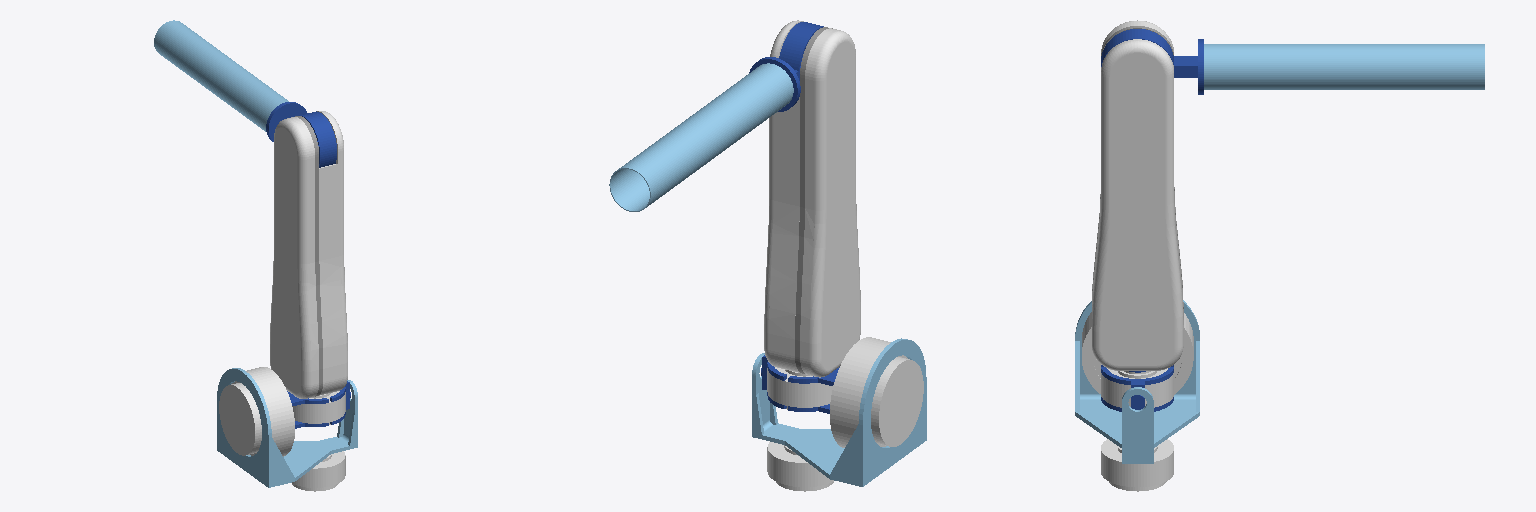
The robot description file, URDF, robot "sim_arm_141-1x3-none":
<?xml version='1.0' encoding='utf-8'?>
<robot name="sim_arm_141-1x3-none">
  <link name="link_rs01_sim_1">
    <visual>
      <origin xyz="0 0 0" rpy="0 0 0" />
      <geometry>
        <mesh filename="./meshes/rs01_sim_1.stl" />
      </geometry>
      <material name="link_rs01_sim_1_material">
        <color rgba="0.91764706 0.91764706 0.91764706 1" />
      </material>
    </visual>
    <collision>
      <origin xyz="0 0 0" rpy="0 0 0" />
      <geometry>
        <mesh filename="./meshes/rs01_sim_1.stl" />
      </geometry>
    </collision>
    </link>
  <link name="link_main_shoulder_bracket_1">
    <visual>
      <origin xyz="0 0 0" rpy="0 0 0" />
      <geometry>
        <mesh filename="./meshes/main_shoulder_bracket_1597ccc2460cce77d.stl" />
      </geometry>
      <material name="link_main_shoulder_bracket_1_material">
        <color rgba="0.61568627 0.81176471 0.92941176 1" />
      </material>
    </visual>
    <collision>
      <origin xyz="0 0 0" rpy="0 0 0" />
      <geometry>
        <mesh filename="./meshes/main_shoulder_bracket_1597ccc2460cce77d.stl" />
      </geometry>
    </collision>
    </link>
  <joint name="joint_j1" type="revolute">
    <origin xyz="0 0 0.020512915" rpy="0 0 0" />
    <parent link="link_rs01_sim_1" />
    <child link="link_main_shoulder_bracket_1" />
    <limit effort="80" velocity="5" lower="-3.1415927" upper="3.1415927" />
    <axis xyz="0 0 -1" />
  </joint>
  <link name="link_dummy_1">
    <visual>
      <origin xyz="0 0 0" rpy="0 0 0" />
      <geometry>
        <mesh filename="./meshes/dummy_1.stl" />
      </geometry>
      <material name="link_dummy_1_material">
        <color rgba="0.98039216 0.71372549 0.0039215686 1" />
      </material>
    </visual>
    <collision>
      <origin xyz="0 0 0" rpy="0 0 0" />
      <geometry>
        <mesh filename="./meshes/dummy_1.stl" />
      </geometry>
    </collision>
    </link>
  <joint name="joint_revolute_1" type="revolute">
    <origin xyz="0 0 -0.019987085" rpy="0 0 0" />
    <parent link="link_rs01_sim_1" />
    <child link="link_dummy_1" />
    <limit effort="80" velocity="5" lower="0" upper="0.017453293" />
    <axis xyz="0 0 1" />
  </joint>
  <link name="link_rs04_sim_1">
    <visual>
      <origin xyz="0 0 0" rpy="0 0 0" />
      <geometry>
        <mesh filename="./meshes/rs04_sim_1.stl" />
      </geometry>
      <material name="link_rs04_sim_1_material">
        <color rgba="0.91764706 0.91764706 0.91764706 1" />
      </material>
    </visual>
    <collision>
      <origin xyz="0 0 0" rpy="0 0 0" />
      <geometry>
        <mesh filename="./meshes/rs04_sim_1.stl" />
      </geometry>
    </collision>
    </link>
  <joint name="joint_bolt_12" type="fixed">
    <origin xyz="-0.10375 0 0.074" rpy="-3.1415927 1.5707963 0" />
    <parent link="link_main_shoulder_bracket_1" />
    <child link="link_rs04_sim_1" />
  </joint>
  <link name="link_dummy_4">
    <visual>
      <origin xyz="0 0 0" rpy="0 0 0" />
      <geometry>
        <mesh filename="./meshes/dummy_4.stl" />
      </geometry>
      <material name="link_dummy_4_material">
        <color rgba="0.98039216 0.71372549 0.0039215686 1" />
      </material>
    </visual>
    <collision>
      <origin xyz="0 0 0" rpy="0 0 0" />
      <geometry>
        <mesh filename="./meshes/dummy_4.stl" />
      </geometry>
    </collision>
    </link>
  <joint name="joint_revolute_2" type="revolute">
    <origin xyz="0 0 -0.025" rpy="0 0 0" />
    <parent link="link_dummy_1" />
    <child link="link_dummy_4" />
    <limit effort="80" velocity="5" lower="0" upper="0.017453293" />
    <axis xyz="0 0 1" />
  </joint>
  <link name="link_m3_to_bearing_bracket_1">
    <visual>
      <origin xyz="0 0 0" rpy="0 0 0" />
      <geometry>
        <mesh filename="./meshes/m3_to_bearing_bracket_1597ccc2460cce77d.stl" />
      </geometry>
      <material name="link_m3_to_bearing_bracket_1_material">
        <color rgba="0.23137255 0.38039216 0.70588235 1" />
      </material>
    </visual>
    <collision>
      <origin xyz="0 0 0" rpy="0 0 0" />
      <geometry>
        <mesh filename="./meshes/m3_to_bearing_bracket_1597ccc2460cce77d.stl" />
      </geometry>
    </collision>
    </link>
  <joint name="joint_j2" type="revolute">
    <origin xyz="0 0 -0.0395" rpy="0 0 -1.5707963" />
    <parent link="link_rs04_sim_1" />
    <child link="link_m3_to_bearing_bracket_1" />
    <limit effort="80" velocity="5" lower="-3.1415927" upper="3.1415927" />
    <axis xyz="0 0 1" />
  </joint>
  <link name="link_dummy_3">
    <visual>
      <origin xyz="0 0 0" rpy="0 0 0" />
      <geometry>
        <mesh filename="./meshes/dummy_3.stl" />
      </geometry>
      <material name="link_dummy_3_material">
        <color rgba="0.98039216 0.71372549 0.0039215686 1" />
      </material>
    </visual>
    <collision>
      <origin xyz="0 0 0" rpy="0 0 0" />
      <geometry>
        <mesh filename="./meshes/dummy_3.stl" />
      </geometry>
    </collision>
    </link>
  <joint name="joint_revolute_3" type="revolute">
    <origin xyz="0 0 -0.025" rpy="0 0 0" />
    <parent link="link_dummy_4" />
    <child link="link_dummy_3" />
    <limit effort="80" velocity="5" lower="0" upper="0.017453293" />
    <axis xyz="0 0 1" />
  </joint>
  <link name="link_rs01_sim_2">
    <visual>
      <origin xyz="0 0 0" rpy="0 0 0" />
      <geometry>
        <mesh filename="./meshes/rs01_sim_2.stl" />
      </geometry>
      <material name="link_rs01_sim_2_material">
        <color rgba="0.91764706 0.91764706 0.91764706 1" />
      </material>
    </visual>
    <collision>
      <origin xyz="0 0 0" rpy="0 0 0" />
      <geometry>
        <mesh filename="./meshes/rs01_sim_2.stl" />
      </geometry>
    </collision>
    </link>
  <joint name="joint_bolt_23_m" type="fixed">
    <origin xyz="0 -0.014 -0.06425" rpy="-1.5707963 1.5707963 0" />
    <parent link="link_m3_to_bearing_bracket_1" />
    <child link="link_rs01_sim_2" />
  </joint>
  <link name="link_dummy_2">
    <visual>
      <origin xyz="0 0 0" rpy="0 0 0" />
      <geometry>
        <mesh filename="./meshes/dummy_2.stl" />
      </geometry>
      <material name="link_dummy_2_material">
        <color rgba="0.98039216 0.71372549 0.0039215686 1" />
      </material>
    </visual>
    <collision>
      <origin xyz="0 0 0" rpy="0 0 0" />
      <geometry>
        <mesh filename="./meshes/dummy_2.stl" />
      </geometry>
    </collision>
    </link>
  <joint name="joint_revolute_4" type="revolute">
    <origin xyz="0 0 -0.025" rpy="0 0 0" />
    <parent link="link_dummy_3" />
    <child link="link_dummy_2" />
    <limit effort="80" velocity="5" lower="0" upper="0.017453293" />
    <axis xyz="0 0 1" />
  </joint>
  <link name="link_m2_to_m3_bracket_1">
    <visual>
      <origin xyz="0 0 0" rpy="0 0 0" />
      <geometry>
        <mesh filename="./meshes/m2_to_m3_bracket_1597ccc2460cce77d.stl" />
      </geometry>
      <material name="link_m2_to_m3_bracket_1_material">
        <color rgba="0.23137255 0.38039216 0.70588235 1" />
      </material>
    </visual>
    <collision>
      <origin xyz="0 0 0" rpy="0 0 0" />
      <geometry>
        <mesh filename="./meshes/m2_to_m3_bracket_1597ccc2460cce77d.stl" />
      </geometry>
    </collision>
    </link>
  <joint name="joint_bolt_23_b" type="fixed">
    <origin xyz="0 0 0" rpy="0 0 0" />
    <parent link="link_rs01_sim_2" />
    <child link="link_m2_to_m3_bracket_1" />
  </joint>
  <link name="link_shoulder_input_1">
    <visual>
      <origin xyz="0 0 0" rpy="0 0 0" />
      <geometry>
        <mesh filename="./meshes/shoulder_input_1.stl" />
      </geometry>
      <material name="link_shoulder_input_1_material">
        <color rgba="0.23137255 0.38039216 0.70588235 1" />
      </material>
    </visual>
    <collision>
      <origin xyz="0 0 0" rpy="0 0 0" />
      <geometry>
        <mesh filename="./meshes/shoulder_input_1.stl" />
      </geometry>
    </collision>
    </link>
  <joint name="joint_j3" type="revolute">
    <origin xyz="0 0 -0.004" rpy="0 0 0" />
    <parent link="link_rs01_sim_2" />
    <child link="link_shoulder_input_1" />
    <limit effort="80" velocity="5" lower="-3.1415927" upper="3.1415927" />
    <axis xyz="0 0 1" />
  </joint>
  <link name="link_dummy_6">
    <visual>
      <origin xyz="0 0 0" rpy="0 0 0" />
      <geometry>
        <mesh filename="./meshes/dummy_6.stl" />
      </geometry>
      <material name="link_dummy_6_material">
        <color rgba="0.98039216 0.71372549 0.0039215686 1" />
      </material>
    </visual>
    <collision>
      <origin xyz="0 0 0" rpy="0 0 0" />
      <geometry>
        <mesh filename="./meshes/dummy_6.stl" />
      </geometry>
    </collision>
    </link>
  <joint name="joint_revolute_5" type="revolute">
    <origin xyz="0 0 -0.025" rpy="0 0 0" />
    <parent link="link_dummy_2" />
    <child link="link_dummy_6" />
    <limit effort="80" velocity="5" lower="0" upper="0.017453293" />
    <axis xyz="0 0 1" />
  </joint>
  <link name="link_main_plate_1">
    <visual>
      <origin xyz="0 0 0" rpy="0 0 0" />
      <geometry>
        <mesh filename="./meshes/main_plate_1.stl" />
      </geometry>
      <material name="link_main_plate_1_material">
        <color rgba="0.64705882 0.64705882 0.64705882 1" />
      </material>
    </visual>
    <collision>
      <origin xyz="0 0 0" rpy="0 0 0" />
      <geometry>
        <mesh filename="./meshes/main_plate_1.stl" />
      </geometry>
    </collision>
    </link>
  <joint name="joint_elbow_fasten_1" type="fixed">
    <origin xyz="-0.0165 0 -0.003" rpy="-3.1415927 -1.5707963 0" />
    <parent link="link_shoulder_input_1" />
    <child link="link_main_plate_1" />
  </joint>
  <link name="link_dummy_5">
    <visual>
      <origin xyz="0 0 0" rpy="0 0 0" />
      <geometry>
        <mesh filename="./meshes/dummy_5.stl" />
      </geometry>
      <material name="link_dummy_5_material">
        <color rgba="0.98039216 0.71372549 0.0039215686 1" />
      </material>
    </visual>
    <collision>
      <origin xyz="0 0 0" rpy="0 0 0" />
      <geometry>
        <mesh filename="./meshes/dummy_5.stl" />
      </geometry>
    </collision>
    </link>
  <joint name="joint_revolute_6" type="revolute">
    <origin xyz="0 0 -0.025" rpy="0 0 0" />
    <parent link="link_dummy_6" />
    <child link="link_dummy_5" />
    <limit effort="80" velocity="5" lower="0" upper="0.017453293" />
    <axis xyz="0 0 1" />
  </joint>
  <link name="link_rs01_sim_3">
    <visual>
      <origin xyz="0 0 0" rpy="0 0 0" />
      <geometry>
        <mesh filename="./meshes/rs01_sim_3.stl" />
      </geometry>
      <material name="link_rs01_sim_3_material">
        <color rgba="0.91764706 0.91764706 0.91764706 1" />
      </material>
    </visual>
    <collision>
      <origin xyz="0 0 0" rpy="0 0 0" />
      <geometry>
        <mesh filename="./meshes/rs01_sim_3.stl" />
      </geometry>
    </collision>
    </link>
  <joint name="joint_elbow_fasten_2" type="fixed">
    <origin xyz="-0.04925 0 0" rpy="0 0 0" />
    <parent link="link_main_plate_1" />
    <child link="link_rs01_sim_3" />
  </joint>
  <link name="link_motor_side_shell_1">
    <visual>
      <origin xyz="0 0 0" rpy="0 0 0" />
      <geometry>
        <mesh filename="./meshes/motor_side_shell_1.stl" />
      </geometry>
      <material name="link_motor_side_shell_1_material">
        <color rgba="0.91764706 0.91764706 0.91764706 1" />
      </material>
    </visual>
    <collision>
      <origin xyz="0 0 0" rpy="0 0 0" />
      <geometry>
        <mesh filename="./meshes/motor_side_shell_1.stl" />
      </geometry>
    </collision>
    </link>
  <joint name="joint_elbow_fasten_4" type="fixed">
    <origin xyz="-0.039625 -0.04925 0" rpy="3.1415927 0 0" />
    <parent link="link_main_plate_1" />
    <child link="link_motor_side_shell_1" />
  </joint>
  <link name="link_trans_side_shell_1">
    <visual>
      <origin xyz="0 0 0" rpy="0 0 0" />
      <geometry>
        <mesh filename="./meshes/trans_side_shell_1.stl" />
      </geometry>
      <material name="link_trans_side_shell_1_material">
        <color rgba="0.91764706 0.91764706 0.91764706 1" />
      </material>
    </visual>
    <collision>
      <origin xyz="0 0 0" rpy="0 0 0" />
      <geometry>
        <mesh filename="./meshes/trans_side_shell_1.stl" />
      </geometry>
    </collision>
    </link>
  <joint name="joint_elbow_fasten_5" type="fixed">
    <origin xyz="-0.039625 -0.04925 -0.00625" rpy="0 0 0" />
    <parent link="link_main_plate_1" />
    <child link="link_trans_side_shell_1" />
  </joint>
  <link name="link_dummy_8">
    <visual>
      <origin xyz="0 0 0" rpy="0 0 0" />
      <geometry>
        <mesh filename="./meshes/dummy_8.stl" />
      </geometry>
      <material name="link_dummy_8_material">
        <color rgba="0.98039216 0.71372549 0.0039215686 1" />
      </material>
    </visual>
    <collision>
      <origin xyz="0 0 0" rpy="0 0 0" />
      <geometry>
        <mesh filename="./meshes/dummy_8.stl" />
      </geometry>
    </collision>
    </link>
  <joint name="joint_revolute_7" type="revolute">
    <origin xyz="0 0 -0.025" rpy="0 0 0" />
    <parent link="link_dummy_5" />
    <child link="link_dummy_8" />
    <limit effort="80" velocity="5" lower="0" upper="0.017453293" />
    <axis xyz="0 0 1" />
  </joint>
  <link name="link_secondary_plate_1">
    <visual>
      <origin xyz="0 0 0" rpy="0 0 0" />
      <geometry>
        <mesh filename="./meshes/secondary_plate_1.stl" />
      </geometry>
      <material name="link_secondary_plate_1_material">
        <color rgba="0.91764706 0.91764706 0.91764706 1" />
      </material>
    </visual>
    <collision>
      <origin xyz="0 0 0" rpy="0 0 0" />
      <geometry>
        <mesh filename="./meshes/secondary_plate_1.stl" />
      </geometry>
    </collision>
    </link>
  <joint name="joint_elbow_fasten_3" type="fixed">
    <origin xyz="0 0 0.028" rpy="3.1415927 0 0" />
    <parent link="link_rs01_sim_3" />
    <child link="link_secondary_plate_1" />
  </joint>
  <link name="link_dummy_7">
    <visual>
      <origin xyz="0 0 0" rpy="0 0 0" />
      <geometry>
        <mesh filename="./meshes/dummy_7.stl" />
      </geometry>
      <material name="link_dummy_7_material">
        <color rgba="0.98039216 0.71372549 0.0039215686 1" />
      </material>
    </visual>
    <collision>
      <origin xyz="0 0 0" rpy="0 0 0" />
      <geometry>
        <mesh filename="./meshes/dummy_7.stl" />
      </geometry>
    </collision>
    </link>
  <joint name="joint_revolute_8" type="revolute">
    <origin xyz="0 0 -0.025" rpy="0 0 0" />
    <parent link="link_dummy_8" />
    <child link="link_dummy_7" />
    <limit effort="80" velocity="5" lower="0" upper="0.017453293" />
    <axis xyz="0 0 1" />
  </joint>
  <link name="link_wrist_output_1">
    <visual>
      <origin xyz="0 0 0" rpy="0 0 0" />
      <geometry>
        <mesh filename="./meshes/wrist_output_1.stl" />
      </geometry>
      <material name="link_wrist_output_1_material">
        <color rgba="0.23137255 0.38039216 0.70588235 1" />
      </material>
    </visual>
    <collision>
      <origin xyz="0 0 0" rpy="0 0 0" />
      <geometry>
        <mesh filename="./meshes/wrist_output_1.stl" />
      </geometry>
    </collision>
    </link>
  <joint name="joint_j4" type="revolute">
    <origin xyz="-0.3 0 -0.00075" rpy="3.1415927 0 1.5707963" />
    <parent link="link_secondary_plate_1" />
    <child link="link_wrist_output_1" />
    <limit effort="80" velocity="5" lower="-2.6179939" upper="2.6179939" />
    <axis xyz="0 0 1" />
  </joint>
  <link name="link_dummy_9">
    <visual>
      <origin xyz="0 0 0" rpy="0 0 0" />
      <geometry>
        <mesh filename="./meshes/dummy_9.stl" />
      </geometry>
      <material name="link_dummy_9_material">
        <color rgba="0.98039216 0.71372549 0.0039215686 1" />
      </material>
    </visual>
    <collision>
      <origin xyz="0 0 0" rpy="0 0 0" />
      <geometry>
        <mesh filename="./meshes/dummy_9.stl" />
      </geometry>
    </collision>
    </link>
  <joint name="joint_revolute_9" type="revolute">
    <origin xyz="0 0 -0.025" rpy="0 0 0" />
    <parent link="link_dummy_7" />
    <child link="link_dummy_9" />
    <limit effort="80" velocity="5" lower="0" upper="0.017453293" />
    <axis xyz="0 0 1" />
  </joint>
  <link name="link_dummy_tube_wrist_1">
    <visual>
      <origin xyz="0 0 0" rpy="0 0 0" />
      <geometry>
        <mesh filename="./meshes/dummy_tube_wrist_1.stl" />
      </geometry>
      <material name="link_dummy_tube_wrist_1_material">
        <color rgba="0.61568627 0.81176471 0.92941176 1" />
      </material>
    </visual>
    <collision>
      <origin xyz="0 0 0" rpy="0 0 0" />
      <geometry>
        <mesh filename="./meshes/dummy_tube_wrist_1.stl" />
      </geometry>
    </collision>
    </link>
  <joint name="joint_forearm_fasten" type="fixed">
    <origin xyz="-0.07125 0 -0.01475" rpy="-3.1415927 -1.5707963 0" />
    <parent link="link_wrist_output_1" />
    <child link="link_dummy_tube_wrist_1" />
  </joint>
  <link name="link_dummy_12">
    <visual>
      <origin xyz="0 0 0" rpy="0 0 0" />
      <geometry>
        <mesh filename="./meshes/dummy_12.stl" />
      </geometry>
      <material name="link_dummy_12_material">
        <color rgba="0.98039216 0.71372549 0.0039215686 1" />
      </material>
    </visual>
    <collision>
      <origin xyz="0 0 0" rpy="0 0 0" />
      <geometry>
        <mesh filename="./meshes/dummy_12.stl" />
      </geometry>
    </collision>
    </link>
  <joint name="joint_revolute_10" type="revolute">
    <origin xyz="0 0 -0.025" rpy="0 0 0" />
    <parent link="link_dummy_9" />
    <child link="link_dummy_12" />
    <limit effort="80" velocity="5" lower="0" upper="0.017453293" />
    <axis xyz="0 0 1" />
  </joint>
  <link name="link_dummy_11">
    <visual>
      <origin xyz="0 0 0" rpy="0 0 0" />
      <geometry>
        <mesh filename="./meshes/dummy_11.stl" />
      </geometry>
      <material name="link_dummy_11_material">
        <color rgba="0.98039216 0.71372549 0.0039215686 1" />
      </material>
    </visual>
    <collision>
      <origin xyz="0 0 0" rpy="0 0 0" />
      <geometry>
        <mesh filename="./meshes/dummy_11.stl" />
      </geometry>
    </collision>
    </link>
  <joint name="joint_revolute_11" type="revolute">
    <origin xyz="0 0 -0.025" rpy="0 0 0" />
    <parent link="link_dummy_12" />
    <child link="link_dummy_11" />
    <limit effort="80" velocity="5" lower="0" upper="0.017453293" />
    <axis xyz="0 0 1" />
  </joint>
  <link name="link_dummy_10">
    <visual>
      <origin xyz="0 0 0" rpy="0 0 0" />
      <geometry>
        <mesh filename="./meshes/dummy_10.stl" />
      </geometry>
      <material name="link_dummy_10_material">
        <color rgba="0.98039216 0.71372549 0.0039215686 1" />
      </material>
    </visual>
    <collision>
      <origin xyz="0 0 0" rpy="0 0 0" />
      <geometry>
        <mesh filename="./meshes/dummy_10.stl" />
      </geometry>
    </collision>
    </link>
  <joint name="joint_revolute_12" type="revolute">
    <origin xyz="0 0 -0.025" rpy="0 0 0" />
    <parent link="link_dummy_11" />
    <child link="link_dummy_10" />
    <limit effort="80" velocity="5" lower="0" upper="0.017453293" />
    <axis xyz="0 0 1" />
  </joint>
</robot>

--- Facts derived from the render (not from the file) ---
3 views of the same robot in one strip: view 1: azimuth 30°, elevation 25°; view 2: azimuth 150°, elevation 25°; view 3: azimuth 270°, elevation 25° (orthographic).
Model sim_arm_141-1x3-none with 26 links and 25 joints (16 revolute, 9 fixed), rooted at link_rs01_sim_1, posed all joints at 0.
Visible links, largest first — view 1: link_trans_side_shell_1, link_motor_side_shell_1, link_dummy_tube_wrist_1, link_main_shoulder_bracket_1, link_rs04_sim_1, link_wrist_output_1, link_rs01_sim_1, link_main_plate_1, link_rs01_sim_2; view 2: link_trans_side_shell_1, link_dummy_tube_wrist_1, link_motor_side_shell_1, link_main_shoulder_bracket_1, link_rs04_sim_1, link_rs01_sim_1, link_main_plate_1, link_rs01_sim_2, link_wrist_output_1, link_m3_to_bearing_bracket_1; view 3: link_motor_side_shell_1, link_dummy_tube_wrist_1, link_main_shoulder_bracket_1, link_rs01_sim_1, link_rs04_sim_1, link_wrist_output_1, link_rs01_sim_2, link_m2_to_m3_bracket_1.
Boxes of the visible links, x1,y1,x2,y2 form: link_trans_side_shell_1: [270, 117, 318, 398]; link_motor_side_shell_1: [317, 111, 347, 395]; link_dummy_tube_wrist_1: [154, 20, 288, 131]; link_main_shoulder_bracket_1: [217, 368, 357, 487]; link_rs04_sim_1: [219, 367, 294, 456]; link_wrist_output_1: [266, 102, 336, 167]; link_rs01_sim_1: [292, 451, 345, 491]; link_main_plate_1: [295, 116, 322, 396]; link_rs01_sim_2: [292, 391, 345, 424]; link_trans_side_shell_1: [800, 28, 860, 377]; link_dummy_tube_wrist_1: [609, 63, 793, 211]; link_motor_side_shell_1: [764, 20, 803, 372]; link_main_shoulder_bracket_1: [752, 338, 926, 486]; link_rs04_sim_1: [830, 337, 923, 447]; link_rs01_sim_1: [767, 442, 833, 491]; link_main_plate_1: [795, 27, 832, 373]; link_rs01_sim_2: [767, 367, 832, 409]; link_wrist_output_1: [749, 22, 823, 111]; link_m3_to_bearing_bracket_1: [788, 367, 839, 413]; link_motor_side_shell_1: [1092, 39, 1183, 370]; link_dummy_tube_wrist_1: [1204, 44, 1484, 89]; link_main_shoulder_bracket_1: [1075, 300, 1199, 463]; link_rs01_sim_1: [1101, 439, 1173, 491]; link_rs04_sim_1: [1082, 312, 1193, 394]; link_wrist_output_1: [1101, 29, 1203, 94]; link_rs01_sim_2: [1101, 368, 1173, 407]; link_m2_to_m3_bracket_1: [1101, 367, 1173, 411].
Size in the robot's own frame: 0.1712 by 0.4383 by 0.524 metres.
14 mesh visuals loaded from 26 distinct referenced files (14 binary STL); not drawn: 12 (reference not matched to a file when rendering).